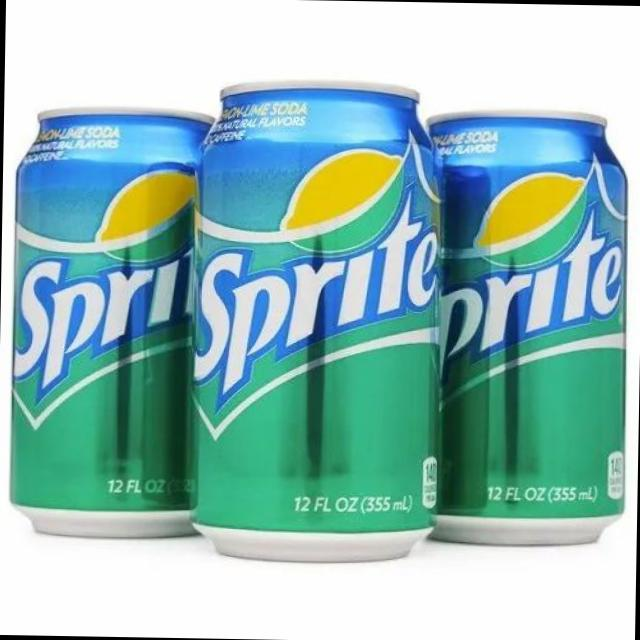sprite: (173, 93, 448, 596), (412, 96, 620, 554), (16, 100, 230, 538), (126, 112, 252, 256), (215, 104, 259, 260)
